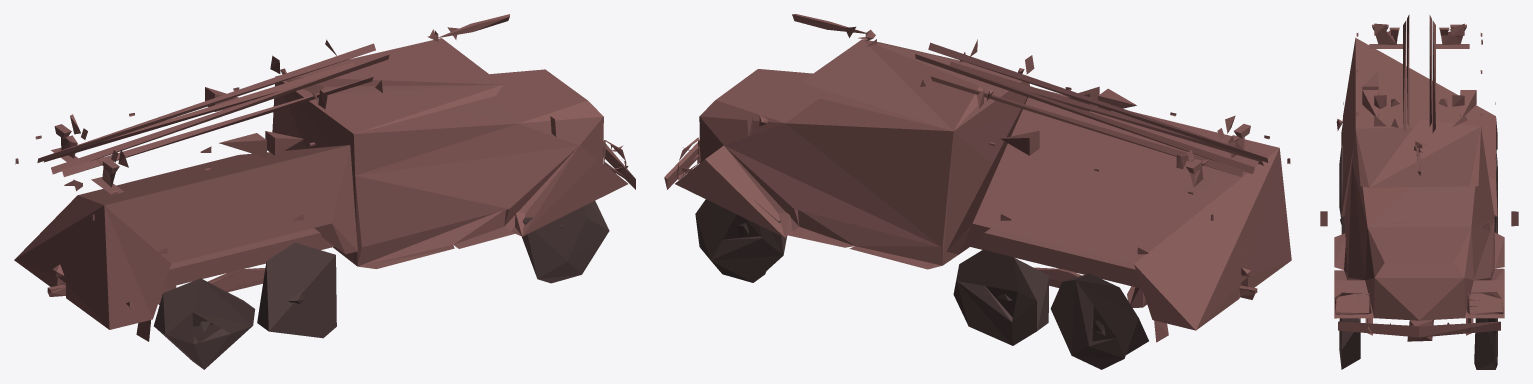
The model's file is fire-truck.lod1.glb.
The picture shows the model from 3 angles, left to right: view 1: azimuth 30°, elevation 25°; view 2: azimuth 150°, elevation 25°; view 3: azimuth 270°, elevation 25°; orthographic projection. The views are drawn at different scales.
Parts seen in each view (by area): view 1: Object_3; view 2: Object_3; view 3: Object_3.
Part boxes in pixels (x1,y1,x2,y2): Object_3: (14,14,635,369); Object_3: (664,14,1291,369); Object_3: (1320,14,1518,369).
Bounding box in the file's own units: 7.17 × 2.89 × 2.69.
